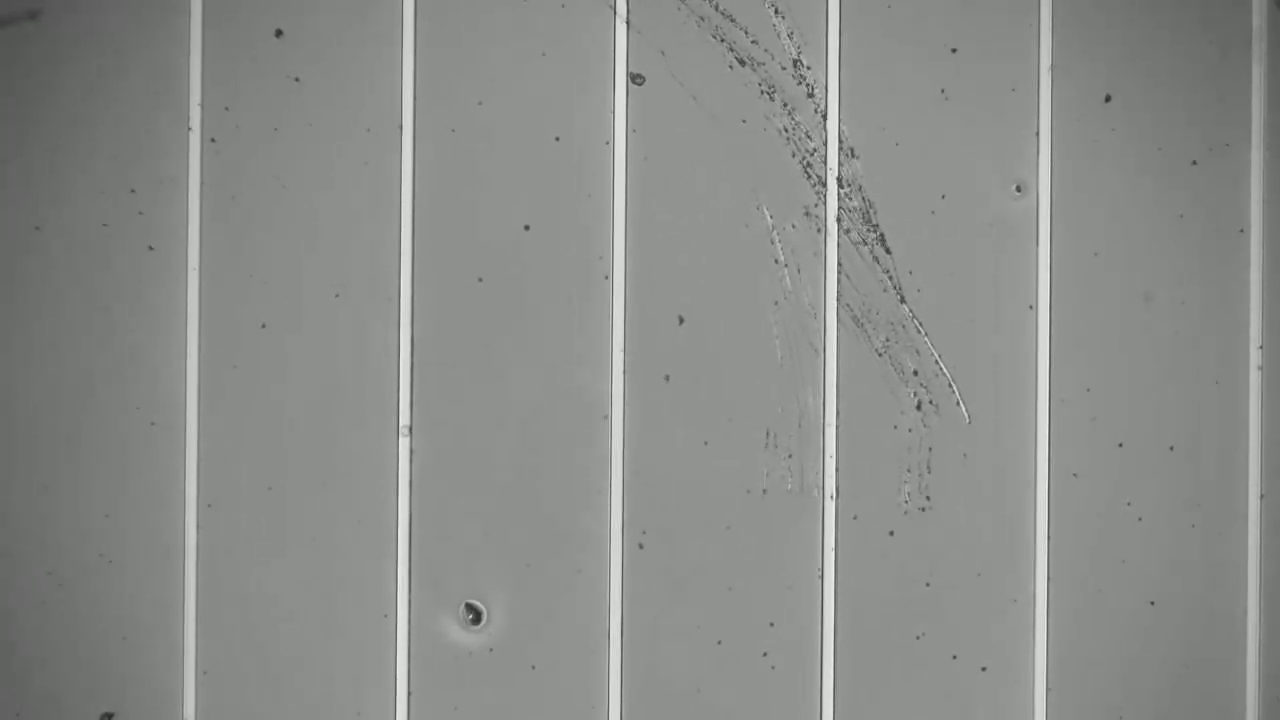scratch: (695, 1, 963, 403)
